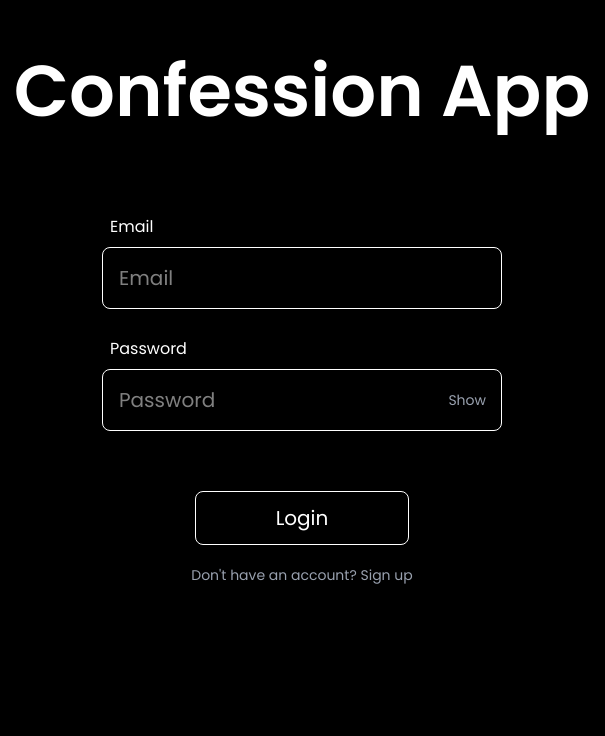
Form › shows error when passwords do not match
Click the text "Don't have an account? Sign up" at (302, 575), box [191, 565, 413, 585]
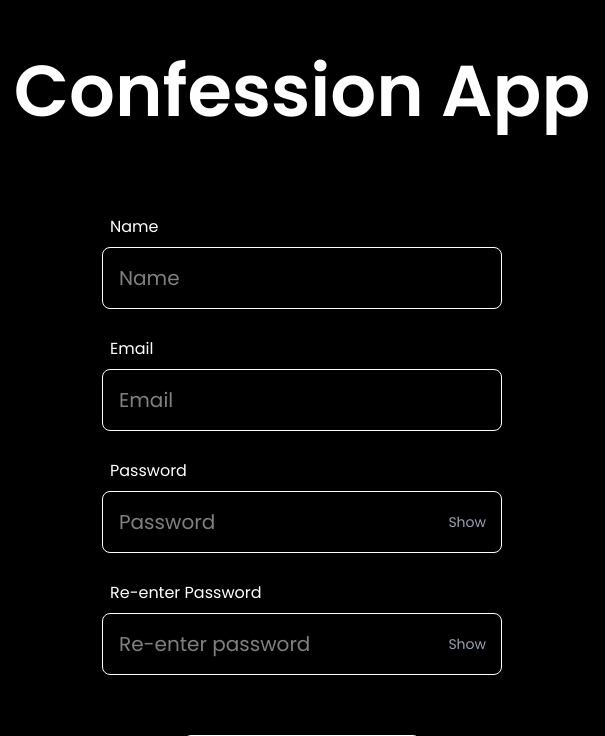
Type "test@test.com" into the field with placeholder "Email" at (302, 400), box [102, 369, 502, 431]
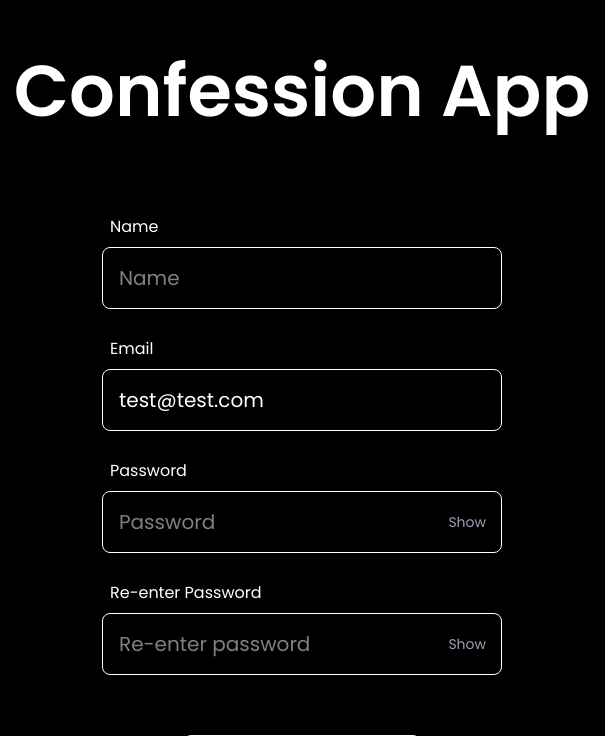
Type "123456" into the password field with placeholder "Password" at (302, 522), box [102, 491, 502, 553]
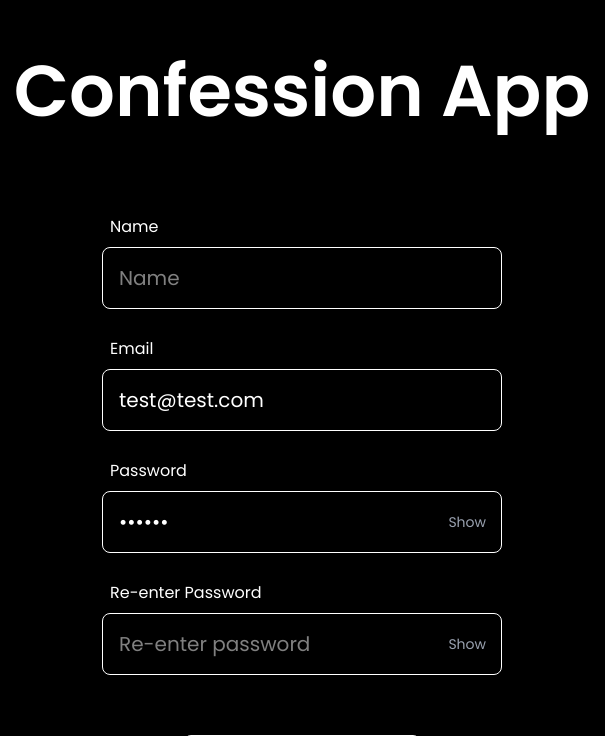
Type "Alice" into the field with placeholder "Name" at (302, 278), box [102, 247, 502, 309]
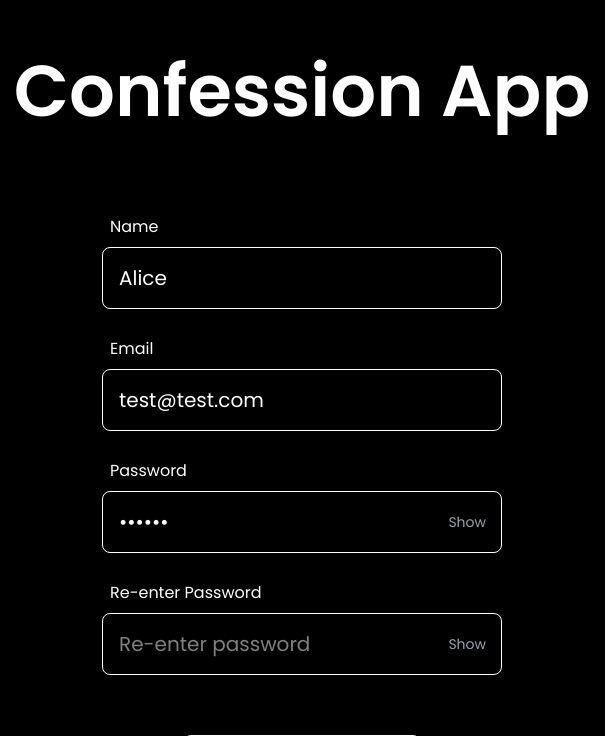
Type "999999" into the password field with placeholder "Re-enter password" at (302, 644), box [102, 613, 502, 675]
(page scrolled)
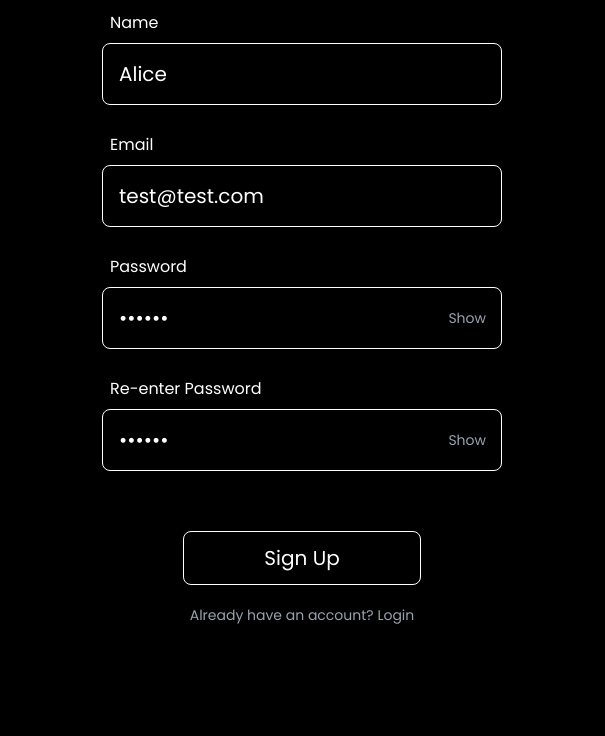
Click the button "Sign Up" at (302, 558), box [183, 531, 421, 585]
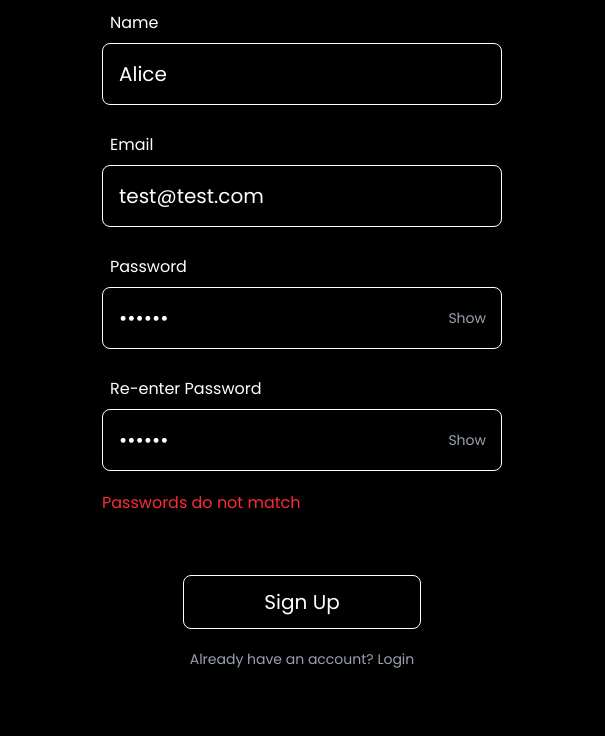
Check: the text "Passwords do not match" is shown, box [102, 491, 300, 514]
